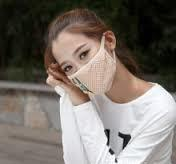OK: (62, 35, 115, 98)
